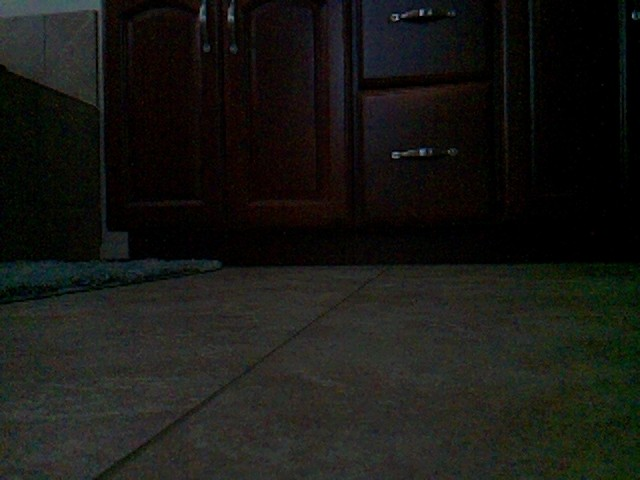Drivable Area: (0, 260, 640, 480)
Obstacle: (105, 2, 640, 259)
